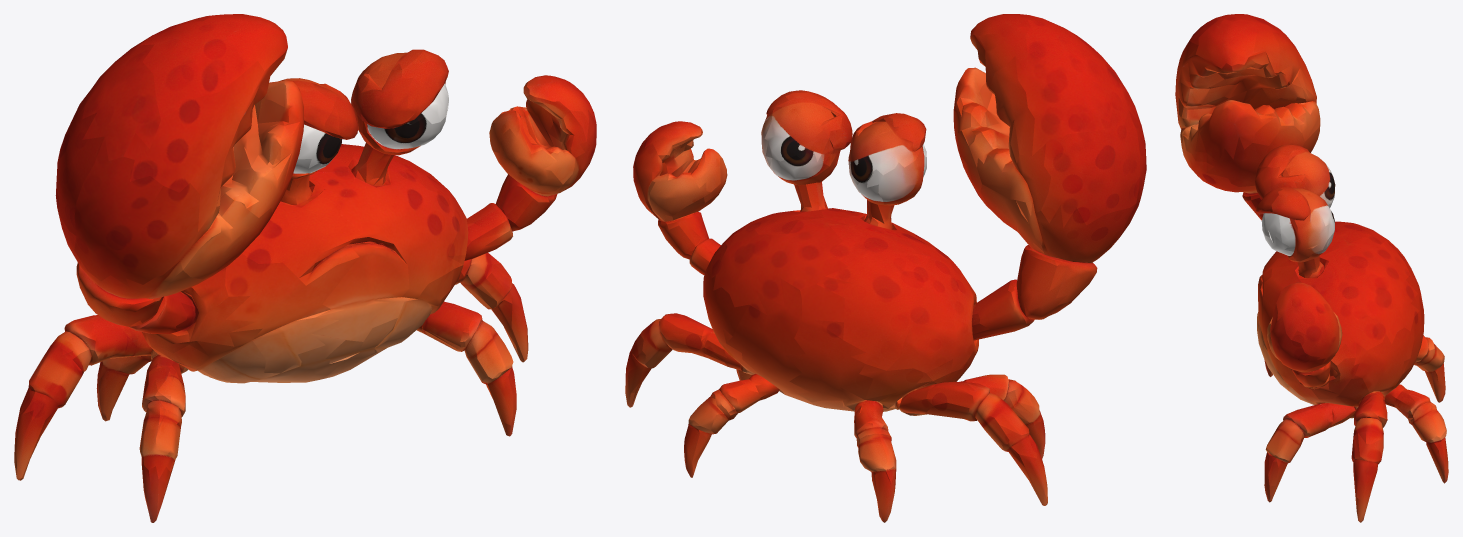
3 views of the same model, side by side, from view 1: azimuth 30°, elevation 25°; view 2: azimuth 150°, elevation 25°; view 3: azimuth 270°, elevation 25° (orthographic). The views are drawn at different scales.
Visible parts, largest first — view 1: Mesh_0; view 2: Mesh_0; view 3: Mesh_0.
Part boxes in pixels (box(x1,y1,x2,y2)): Mesh_0: box(14, 14, 596, 522); Mesh_0: box(625, 14, 1146, 522); Mesh_0: box(1175, 14, 1448, 522).
Size of the model in its own units: 1.9 by 1.66 by 1.11.
1 material, 1 textured.
